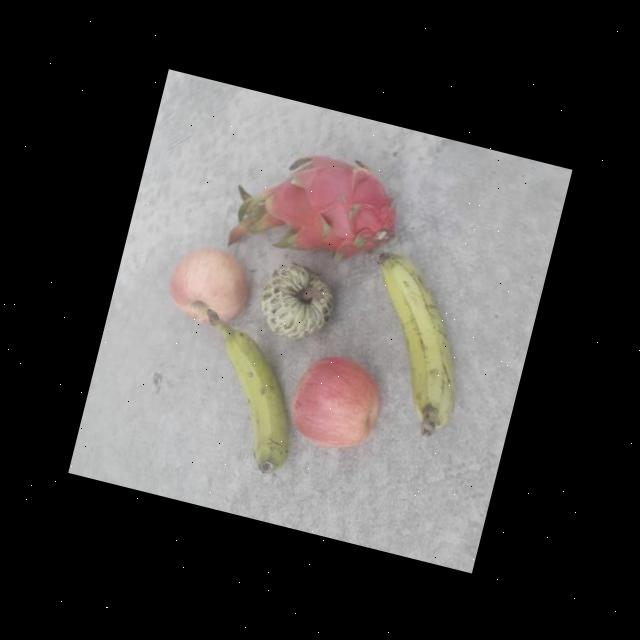Sakya fruit: (251, 254, 342, 346)
apple: (280, 346, 389, 457), (160, 236, 260, 334)
banana: (336, 247, 487, 442), (172, 307, 317, 477)
pitaya: (258, 137, 412, 275)
